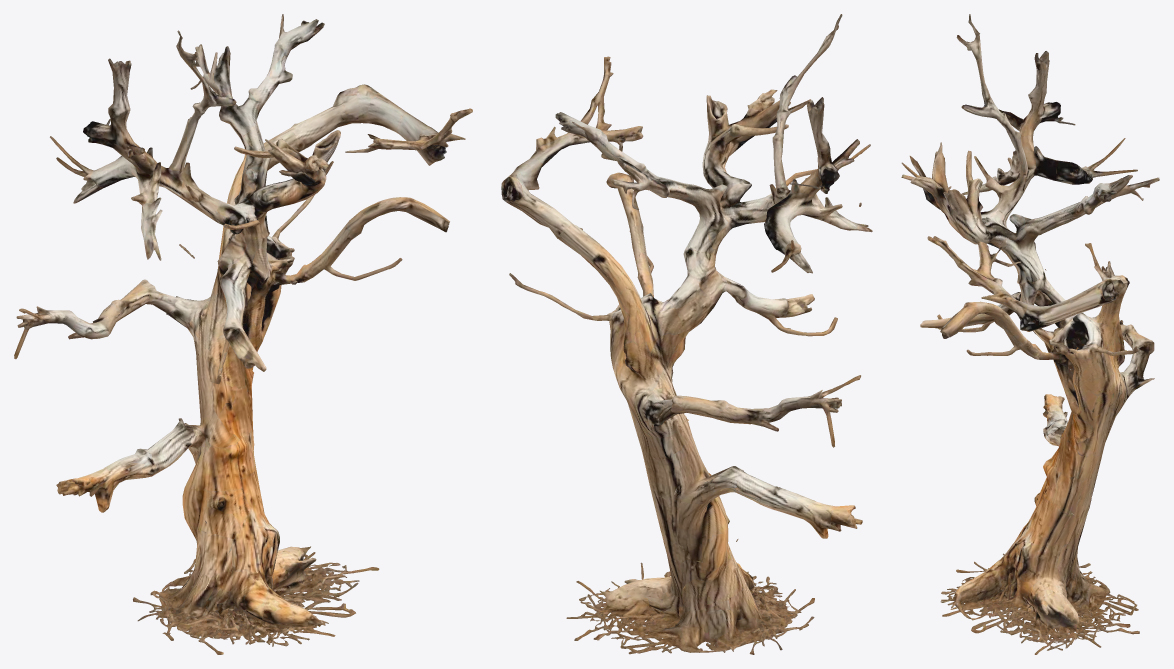
File: desert_old_tree.glb
3 views of the same model, side by side, from view 1: azimuth 30°, elevation 25°; view 2: azimuth 150°, elevation 25°; view 3: azimuth 270°, elevation 25° (orthographic). The views are drawn at different scales.
Parts seen in each view (by area): view 1: Object_5; view 2: Object_5; view 3: Object_5.
Part boxes in pixels (box(x1,y1,x2,y2)): Object_5: box(14, 14, 472, 654); Object_5: box(501, 14, 872, 654); Object_5: box(901, 14, 1159, 654).
Bounding box in the file's own units: 1.23 × 1.9 × 0.8153.
Materials: 1 (1 with a texture image).
